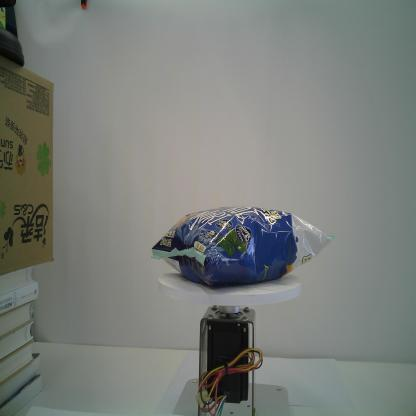Puffed Food: (150, 206, 335, 288)
